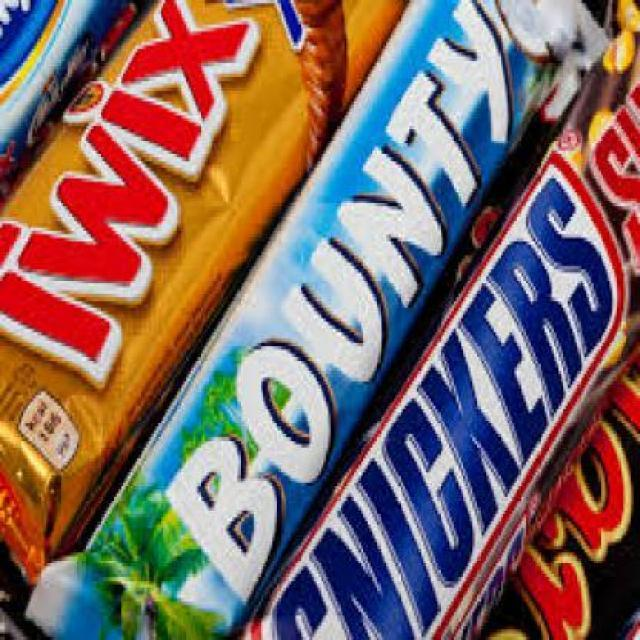Chocolate bar: (83, 3, 582, 637), (258, 46, 638, 636), (8, 7, 386, 553)
